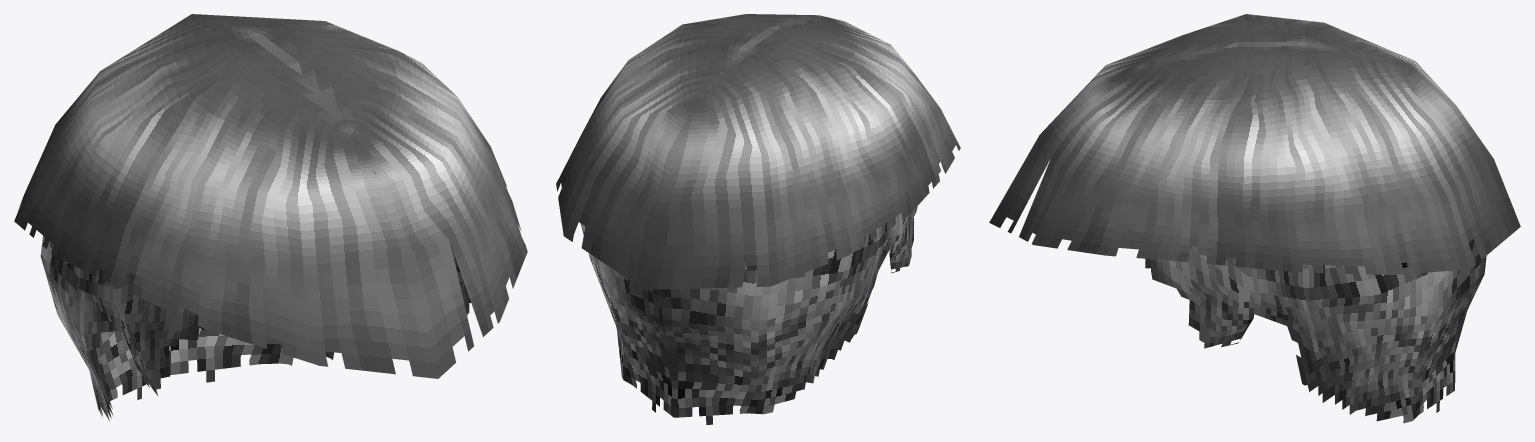
Rendered from m_hair021.obj.
3 views of the same model, side by side, from view 1: azimuth 30°, elevation 25°; view 2: azimuth 150°, elevation 25°; view 3: azimuth 270°, elevation 25° (orthographic). The views are drawn at different scales.
Visible parts, largest first — view 1: editpl_m-0000-1812; view 2: editpl_m-0000-1812; view 3: editpl_m-0000-1812.
Boxes of the visible parts, box(x1,y1,x2,y2) form: editpl_m-0000-1812: box(14, 14, 527, 421); editpl_m-0000-1812: box(556, 14, 960, 424); editpl_m-0000-1812: box(989, 14, 1520, 423).
Size of the model in its own units: 18.42 by 18.09 by 24.23.
Materials: 1 (1 with a texture image).
